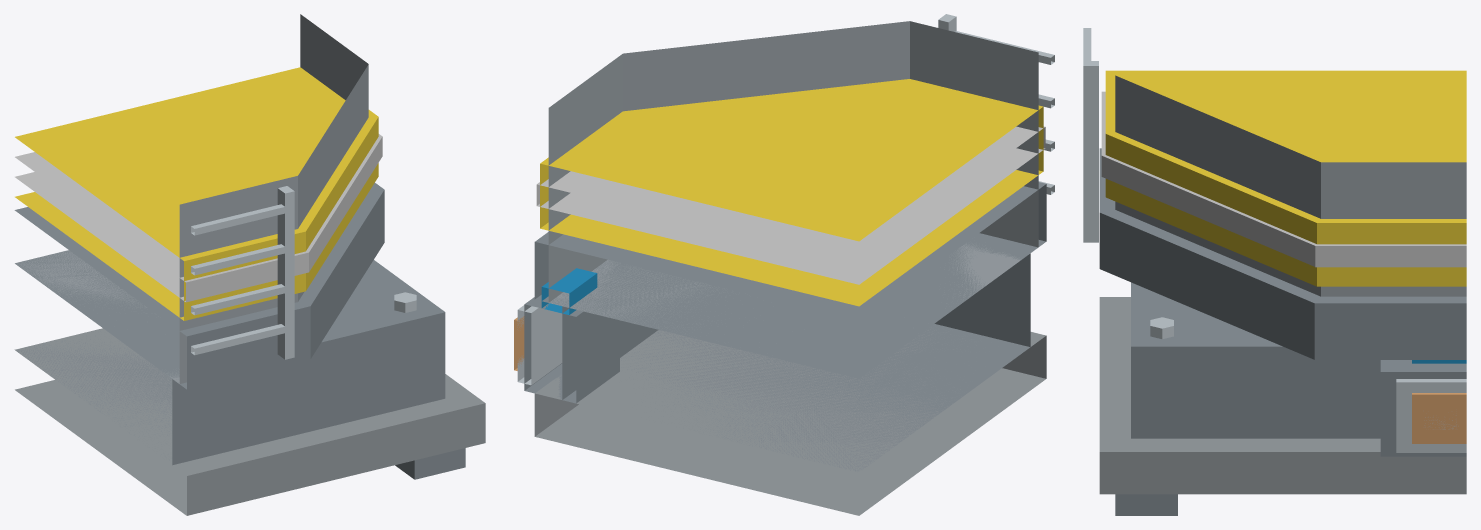
File: cell_3.obj
The picture shows the model from 3 angles, left to right: view 1: azimuth 30°, elevation 25°; view 2: azimuth 150°, elevation 25°; view 3: azimuth 270°, elevation 25°; orthographic projection. The views are drawn at different scales.
Bounding box in the file's own units: 1 × 1 × 0.982.
